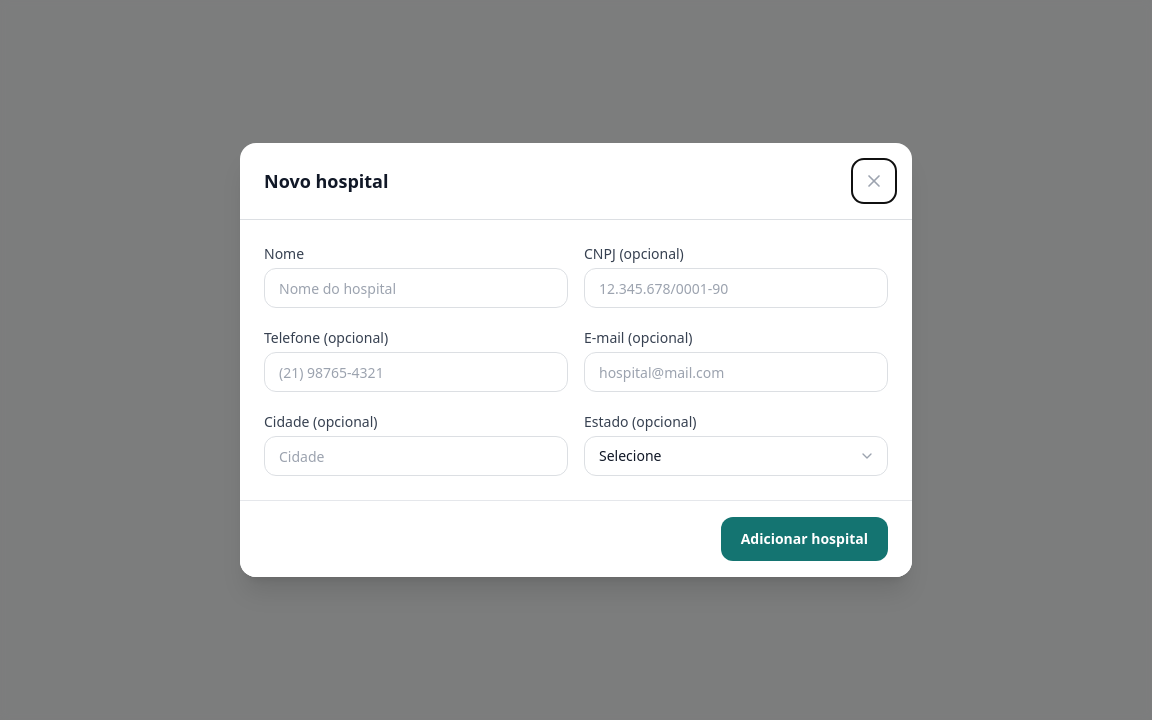
Scenario: modal de cadastro — hospital › não envia sem nome e mostra o erro do schema
The width and height of the screenshot is (1152, 720).
Step 1. Click the button "Adicionar hospital" → click(804, 539), box [721,517,888,561]
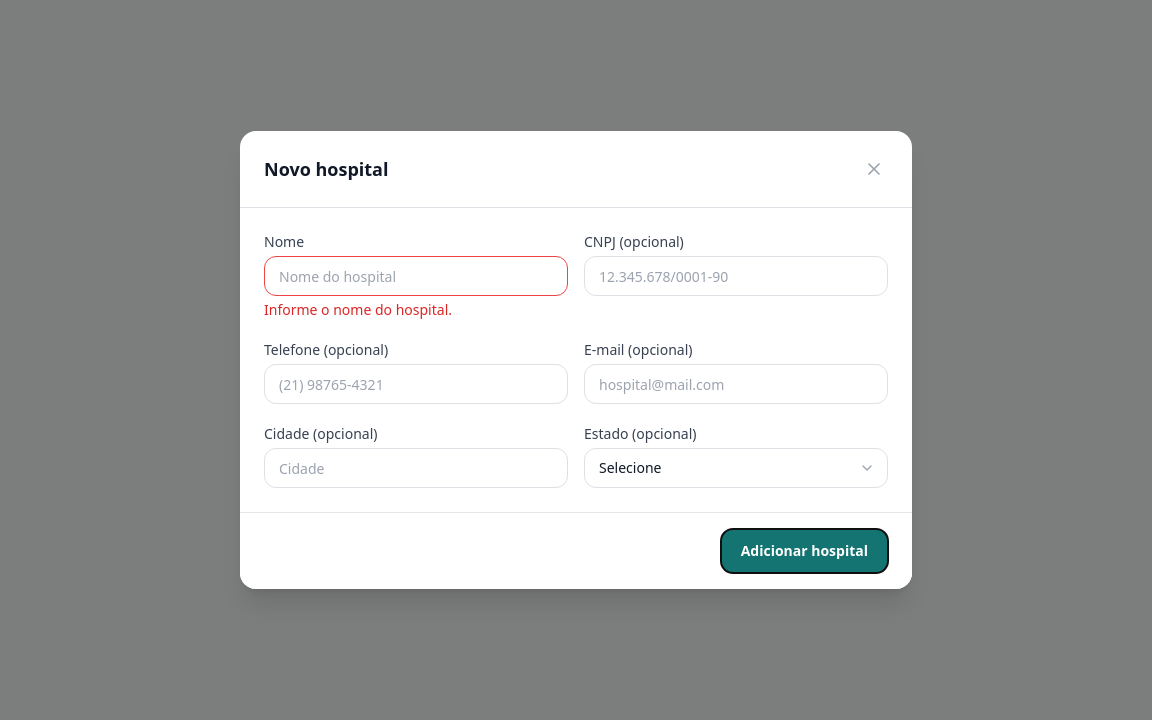
Check: the message shows "Informe o nome", box [264,300,452,319]
